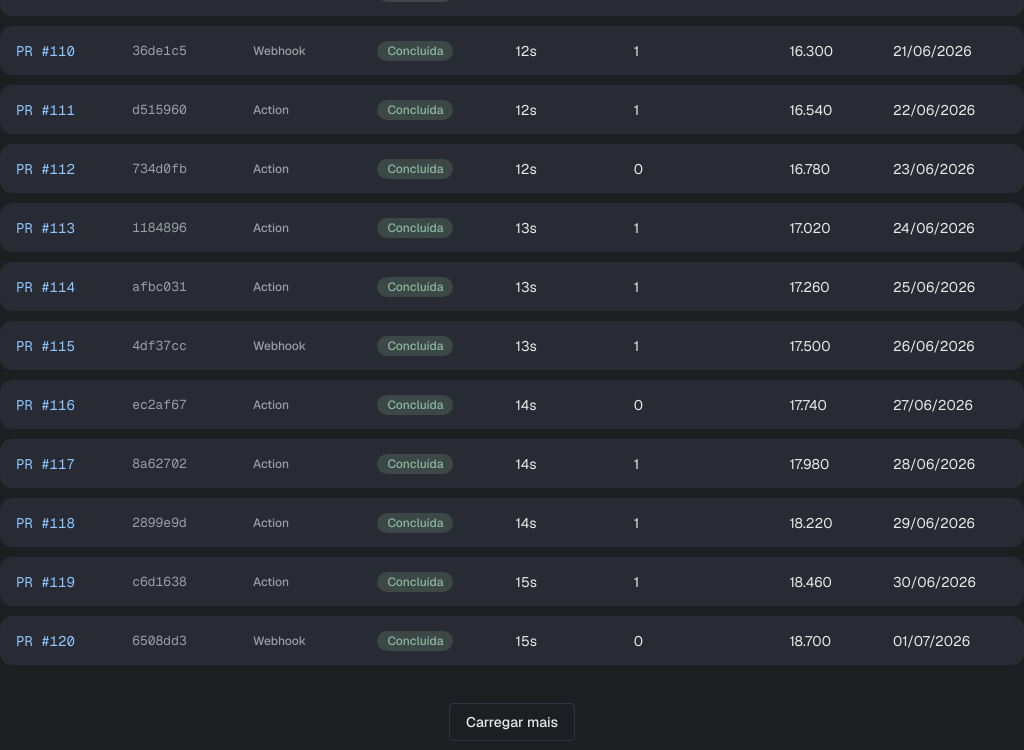
Scenario: RunsPage › loads more runs and appends without duplicating or losing the load-more control
(page scrolled)
Click the button "Carregar mais".
click(512, 722)  # box [449,703,575,741]
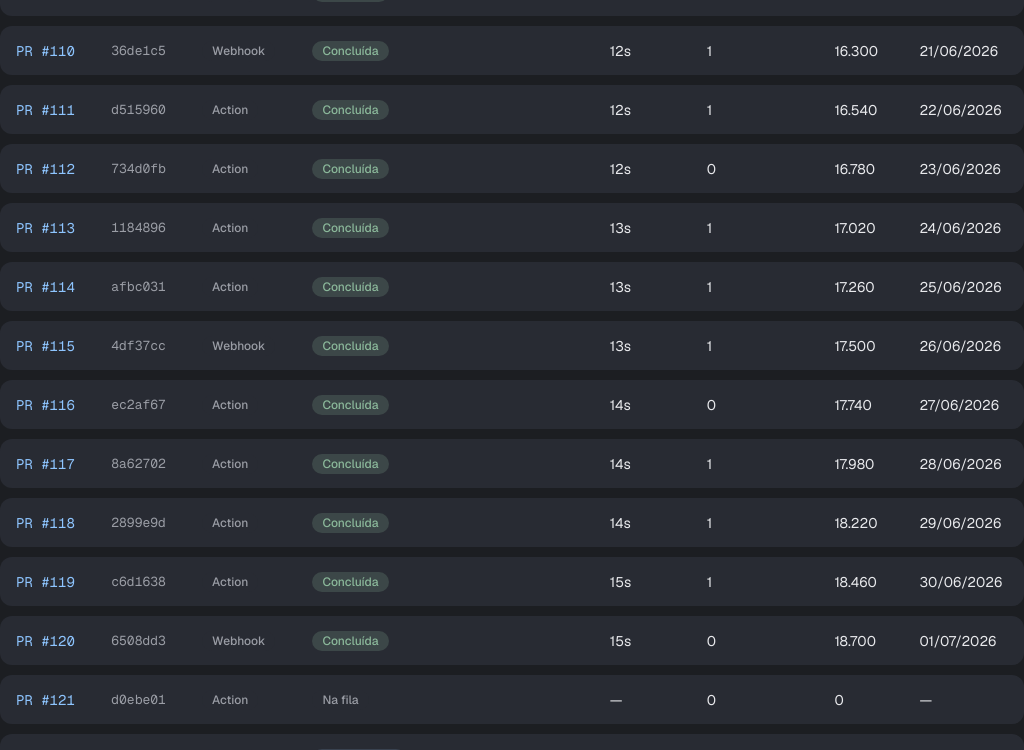
Expected: the link "PR #121" is shown, [16,690,75,708]
Expected: the button "Carregar mais" is gone
